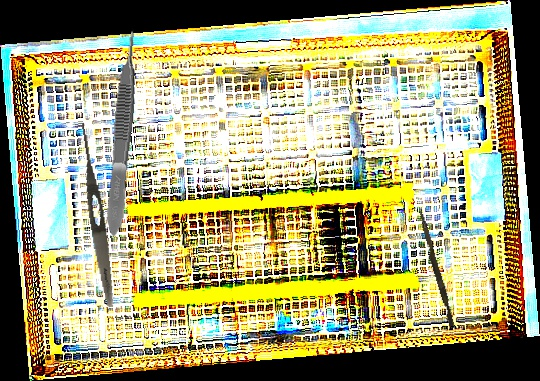Dressing Forceps: (73, 119, 119, 309)
Pusher: (413, 207, 458, 327)
Tissue Forceps: (102, 27, 145, 237)
